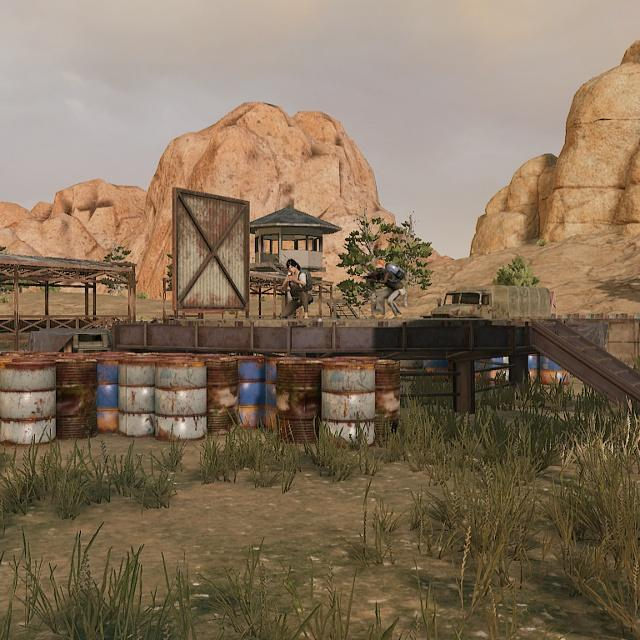head: (285, 257, 301, 274), (373, 257, 388, 273)
people: (277, 256, 317, 319), (369, 257, 409, 319)
